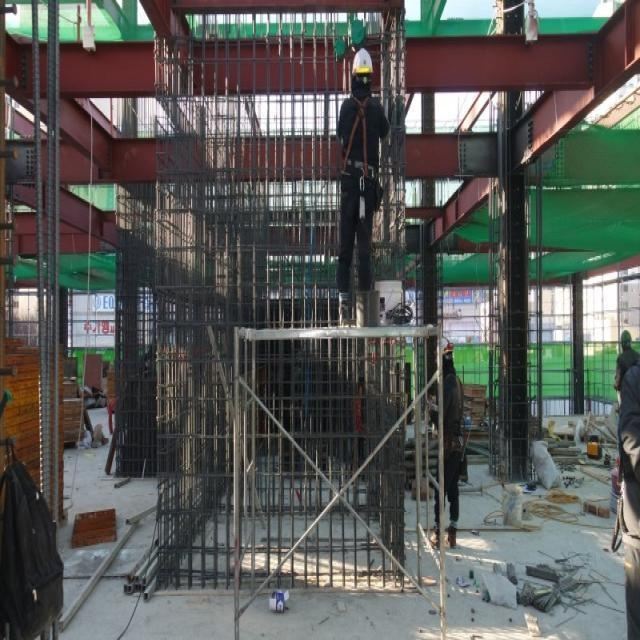Arnes_seguridad: (341, 100, 371, 175)
